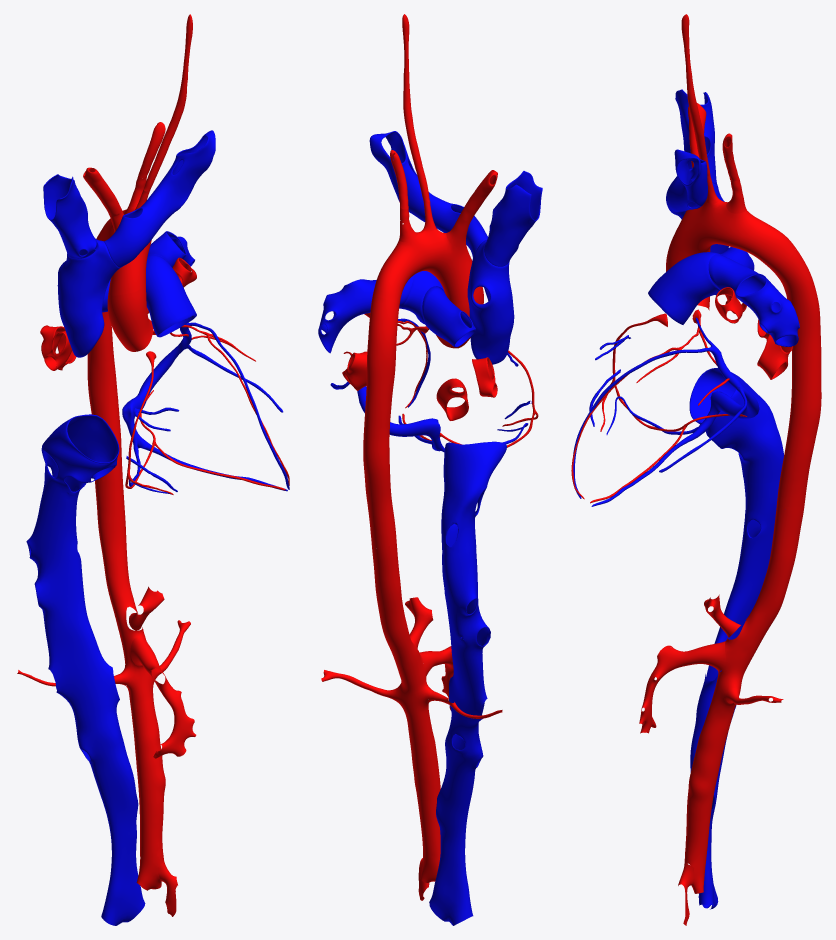
File: VH_M_Blood_Vasculature.glb
3 views of the same model, side by side, from view 1: azimuth 30°, elevation 25°; view 2: azimuth 150°, elevation 25°; view 3: azimuth 270°, elevation 25° (orthographic). The views are drawn at different scales.
Visible parts, largest first — view 1: VH_M_inferior_vena_cava_b, VH_M_descending_aorta_b, VH_M_inferior_vena_cava_a, VH_M_brachiocephalic_vein_L, VH_M_superior_vena_cava, VH_M_descending_aorta_a, VH_M_brachiocephalic_vein_R, VH_M_pulmonary_trunk, VH_M_superior_mesenteric_artery, VH_M_ascending_aorta, VH_M_coronary_sinus, VH_M_aortic_arch (+10 smaller); view 2: VH_M_inferior_vena_cava_b, VH_M_descending_aorta_b, VH_M_descending_aorta_a, VH_M_inferior_vena_cava_a, VH_M_aortic_arch, VH_M_superior_vena_cava, VH_M_brachiocephalic_vein_R, VH_M_brachiocephalic_vein_L, VH_M_pulmonary_artery_L, VH_M_pulmonary_artery_R, VH_M_left_common_carotid_artery_b, VH_M_coronary_sinus (+9 smaller); view 3: VH_M_descending_aorta_b, VH_M_descending_aorta_a, VH_M_inferior_vena_cava_b, VH_M_inferior_vena_cava_a, VH_M_aortic_arch, VH_M_pulmonary_artery_L, VH_M_pulmonary_trunk, VH_M_superior_mesenteric_artery, VH_M_brachiocephalic_vein_L, VH_M_coronary_sinus, VH_M_brachiocephalic_vein_R, VH_M_left_common_carotid_artery_b (+6 smaller).
Part boxes in pixels (left/top/right/bottom): VH_M_inferior_vena_cava_b: left=26, top=500, right=145, bottom=925; VH_M_descending_aorta_b: left=95, top=478, right=165, bottom=890; VH_M_inferior_vena_cava_a: left=41, top=414, right=119, bottom=513; VH_M_brachiocephalic_vein_L: left=104, top=130, right=215, bottom=267; VH_M_superior_vena_cava: left=57, top=238, right=119, bottom=357; VH_M_descending_aorta_a: left=87, top=230, right=122, bottom=481; VH_M_brachiocephalic_vein_R: left=43, top=174, right=96, bottom=258; VH_M_pulmonary_trunk: left=146, top=254, right=196, bottom=337; VH_M_superior_mesenteric_artery: left=130, top=636, right=196, bottom=758; VH_M_ascending_aorta: left=107, top=285, right=153, bottom=351; VH_M_coronary_sinus: left=122, top=322, right=191, bottom=448; VH_M_aortic_arch: left=100, top=205, right=151, bottom=295; VH_M_inferior_vena_cava_b: left=429, top=549, right=490, bottom=925; VH_M_descending_aorta_b: left=371, top=543, right=440, bottom=882; VH_M_descending_aorta_a: left=363, top=296, right=399, bottom=549; VH_M_inferior_vena_cava_a: left=441, top=441, right=506, bottom=556; VH_M_aortic_arch: left=372, top=229, right=481, bottom=306; VH_M_superior_vena_cava: left=467, top=240, right=514, bottom=364; VH_M_brachiocephalic_vein_R: left=484, top=171, right=542, bottom=266; VH_M_brachiocephalic_vein_L: left=369, top=131, right=487, bottom=256; VH_M_pulmonary_artery_L: left=318, top=275, right=413, bottom=353; VH_M_pulmonary_artery_R: left=422, top=286, right=476, bottom=347; VH_M_left_common_carotid_artery_b: left=402, top=14, right=429, bottom=201; VH_M_coronary_sinus: left=357, top=386, right=444, bottom=451; VH_M_descending_aorta_b: left=684, top=504, right=804, bottom=893; VH_M_descending_aorta_a: left=774, top=247, right=821, bottom=510; VH_M_inferior_vena_cava_b: left=690, top=479, right=779, bottom=909; VH_M_inferior_vena_cava_a: left=689, top=368, right=783, bottom=483; VH_M_aortic_arch: left=670, top=200, right=795, bottom=272; VH_M_pulmonary_artery_L: left=708, top=254, right=799, bottom=346; VH_M_pulmonary_trunk: left=648, top=252, right=726, bottom=324; VH_M_superior_mesenteric_artery: left=639, top=641, right=725, bottom=733; VH_M_brachiocephalic_vein_L: left=666, top=149, right=707, bottom=217; VH_M_coronary_sinus: left=695, top=342, right=759, bottom=433; VH_M_brachiocephalic_vein_R: left=675, top=89, right=717, bottom=184; VH_M_left_common_carotid_artery_b: left=681, top=14, right=710, bottom=177.
Size of the model in its own units: 0.1302 by 0.5142 by 0.1258.
